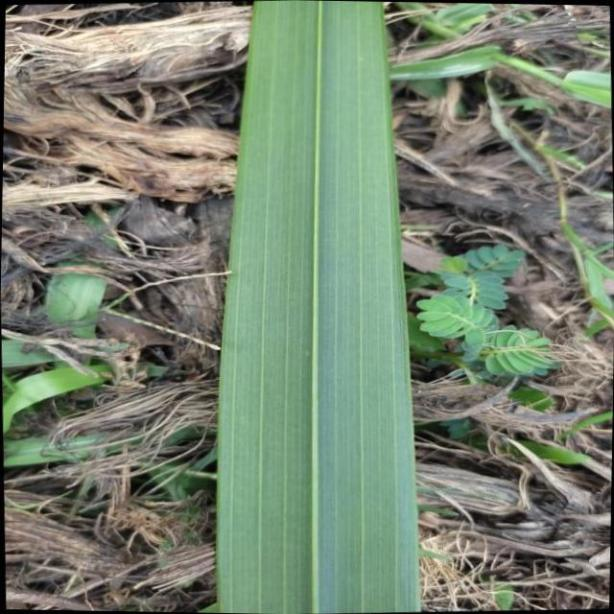Healthy: (214, 0, 421, 614)
